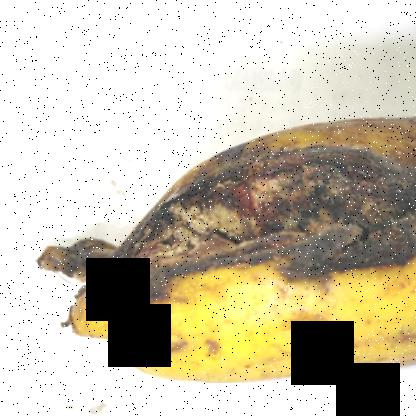ripe: (74, 103, 415, 395)
rotten: (1, 120, 416, 313)
